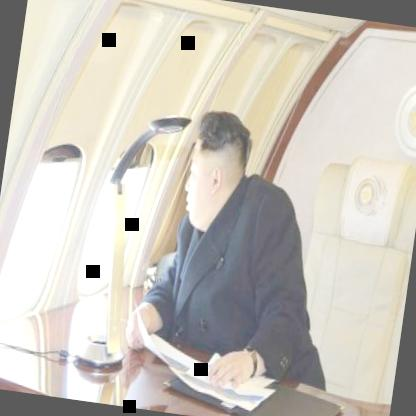head: (176, 105, 258, 228)
